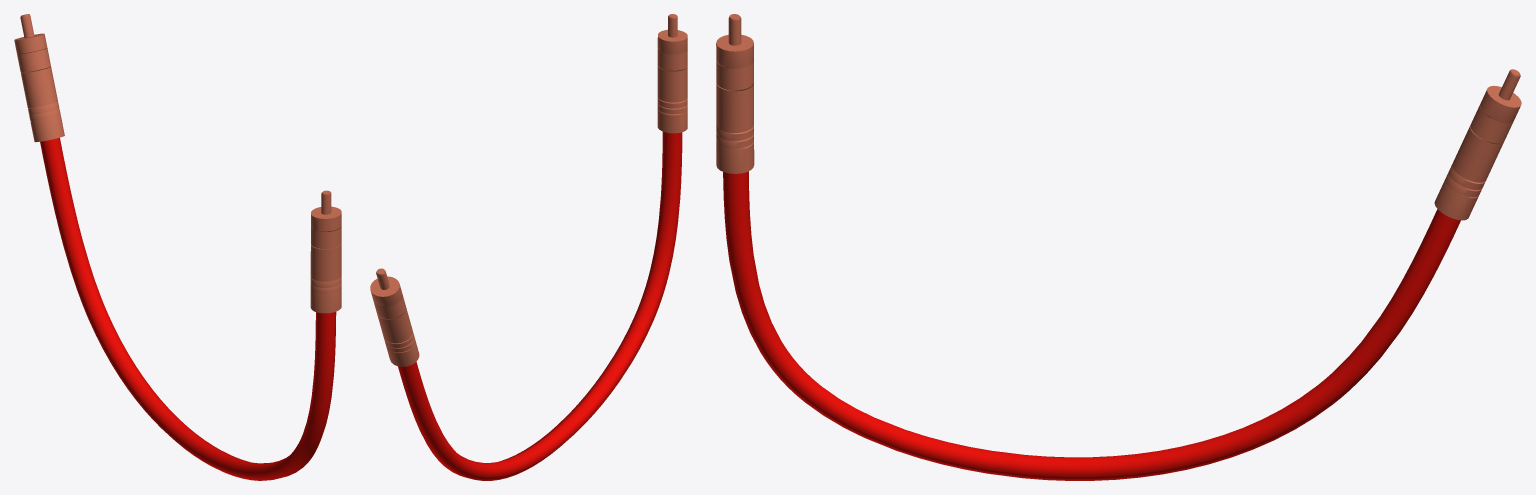
The model's file is Cable FBX.fbx.
The picture shows the model from 3 angles, left to right: view 1: azimuth 30°, elevation 25°; view 2: azimuth 150°, elevation 25°; view 3: azimuth 270°, elevation 25°; orthographic projection. The views are drawn at different scales.
Parts seen in each view (by area): view 1: cable_piece3_body, cable_piece3_cable_endpieceR, cable_piece3_cable_endpieceL; view 2: cable_piece3_body, cable_piece3_cable_endpieceL, cable_piece3_cable_endpieceR; view 3: cable_piece3_body, cable_piece3_cable_endpieceR, cable_piece3_cable_endpieceL.
Part boxes in pixels (bbox=[...]): cable_piece3_body: bbox=[40, 137, 336, 480]; cable_piece3_cable_endpieceR: bbox=[14, 14, 64, 142]; cable_piece3_cable_endpieceL: bbox=[310, 190, 341, 313]; cable_piece3_body: bbox=[398, 131, 682, 480]; cable_piece3_cable_endpieceL: bbox=[657, 14, 687, 133]; cable_piece3_cable_endpieceR: bbox=[370, 268, 419, 366]; cable_piece3_body: bbox=[723, 171, 1460, 480]; cable_piece3_cable_endpieceR: bbox=[1434, 69, 1521, 220]; cable_piece3_cable_endpieceL: bbox=[716, 14, 754, 173].
Bounding box in the file's own units: 0.7308 × 9.03 × 14.27.
